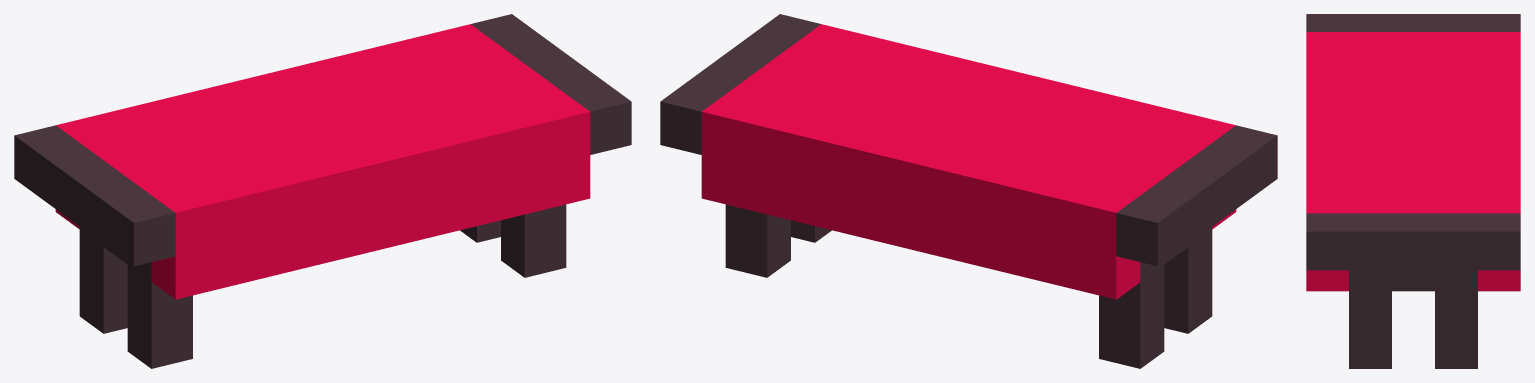
The model's file is large_bench_c_red.obj.
3 renders of one model, left to right at view 1: azimuth 30°, elevation 25°; view 2: azimuth 150°, elevation 25°; view 3: azimuth 270°, elevation 25°, orthographic. The views are drawn at different scales.
Bounding box in the file's own units: 1.2 × 0.4 × 0.5.
Materials: 1 (1 with a texture image).
